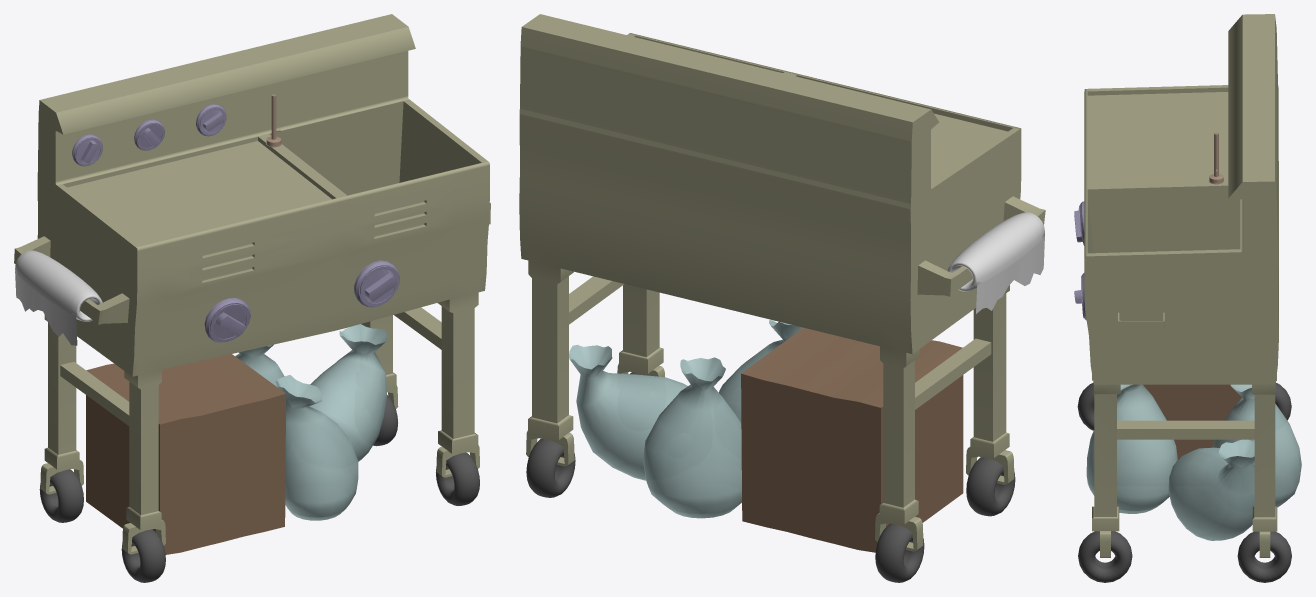
File: Falaffel_With_UV.fbx
The picture shows the model from 3 angles, left to right: view 1: azimuth 30°, elevation 25°; view 2: azimuth 150°, elevation 25°; view 3: azimuth 270°, elevation 25°; orthographic projection. The views are drawn at different scales.
Parts seen in each view (by area): view 1: Falafel__fryer, Box_hummus, Pita_bag2, Pita_bag1, Paper, buttom_moves6, buttom_moves5, Pita_bag, buttom_moves4, buttom_moves2, buttom_moves3; view 2: Falafel__fryer, Box_hummus, Pita_bag, Pita_bag1, Paper, Pita_bag2; view 3: Falafel__fryer, Pita_bag1, Pita_bag2, Box_hummus, Pita_bag, buttom_moves5, Falafel_scoop.
Boxes of the visible parts, x1,y1,x2,y2 form: Falafel__fryer: (14,14,490,582); Box_hummus: (86,354,286,554); Pita_bag2: (275,375,358,520); Pita_bag1: (309,324,387,461); Paper: (15,250,102,345); buttom_moves6: (354,260,399,307); buttom_moves5: (204,298,250,342); Pita_bag: (235,344,284,386); buttom_moves4: (72,134,102,166); buttom_moves2: (196,104,226,136); buttom_moves3: (134,119,164,150); Falafel__fryer: (519,14,1045,582); Box_hummus: (741,328,963,552); Pita_bag: (643,357,741,518); Pita_bag1: (569,344,687,480); Paper: (947,212,1044,313); Pita_bag2: (719,320,803,422); Falafel__fryer: (1077,14,1291,582); Pita_bag1: (1168,439,1254,540); Pita_bag2: (1086,384,1177,513); Box_hummus: (1143,384,1242,459); Pita_bag: (1212,384,1301,507); buttom_moves5: (1074,201,1084,245); Falafel_scoop: (1208,132,1224,184).
Size of the model in its own units: 4.84 by 4.68 by 2.36.
